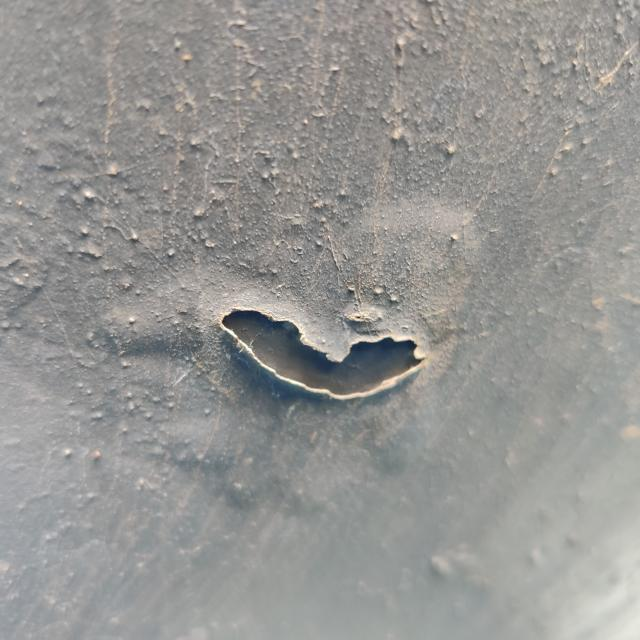paint-off: (184, 258, 465, 465)
